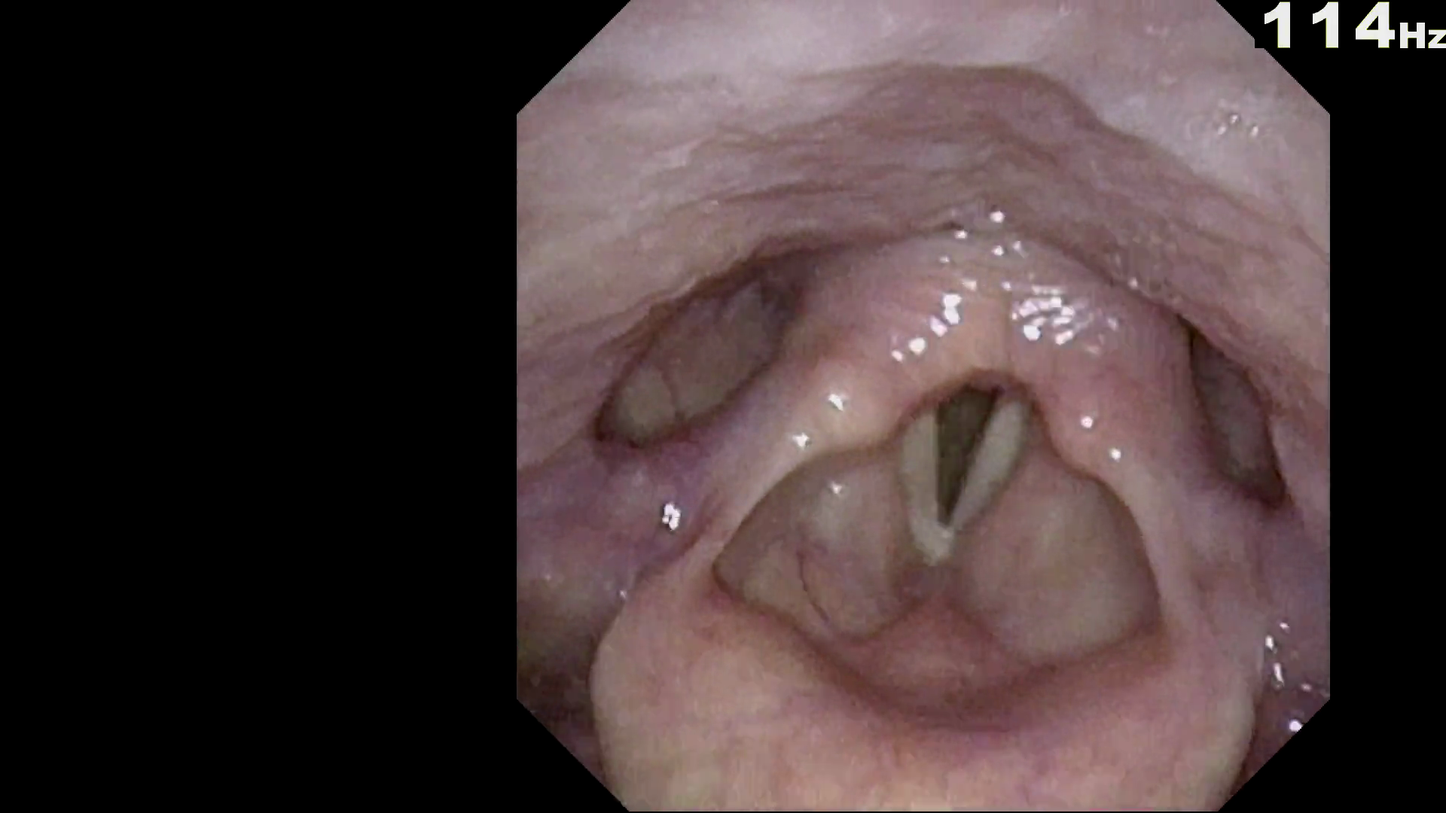epiglottis: (580, 503, 1270, 744)
trachea: (867, 349, 1046, 574)
